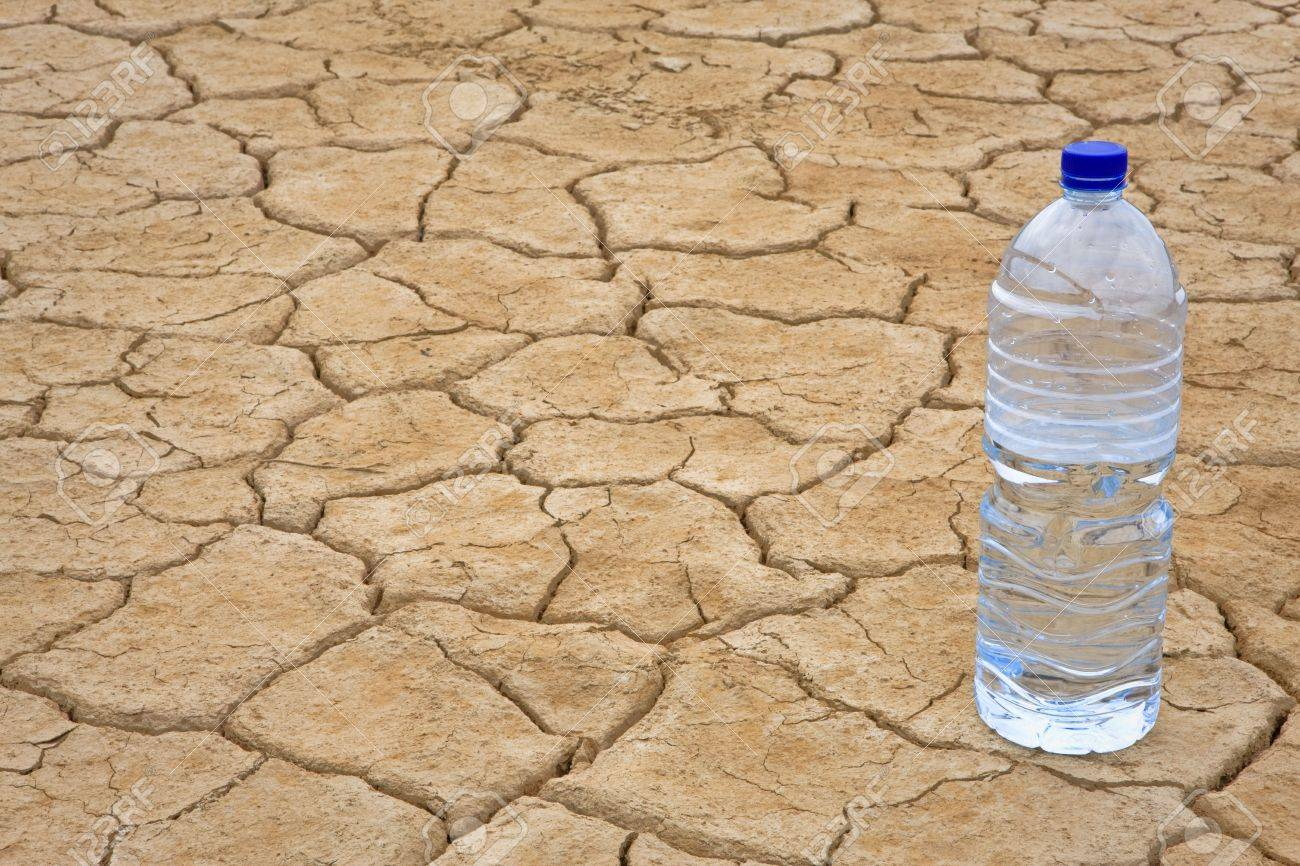plastic_bottle: (966, 133, 1198, 759)
